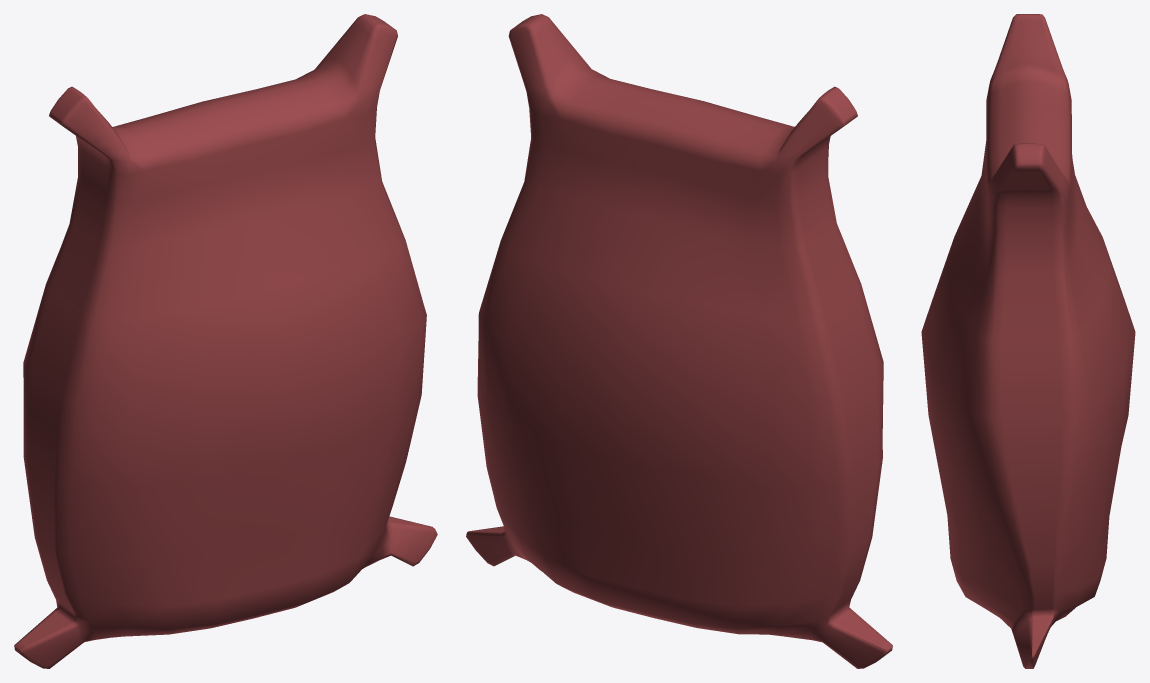
File: Tomato_Sack.fbx
3 views of the same model, side by side, from view 1: azimuth 30°, elevation 25°; view 2: azimuth 150°, elevation 25°; view 3: azimuth 270°, elevation 25° (orthographic). The views are drawn at different scales.
Parts seen in each view (by area): view 1: Tomato_Sack1; view 2: Tomato_Sack1; view 3: Tomato_Sack1.
Part boxes in pixels (box(x1,y1,x2,y2)): Tomato_Sack1: box(14, 14, 437, 668); Tomato_Sack1: box(466, 14, 892, 668); Tomato_Sack1: box(921, 14, 1135, 668).
Size of the model in its own units: 12.28 by 15.83 by 5.92.
